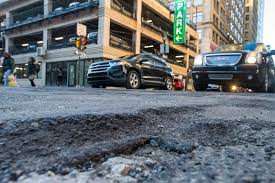pothole: (1, 111, 267, 183)
